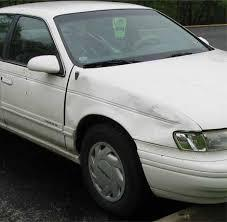boot-dent: (76, 77, 173, 135)
